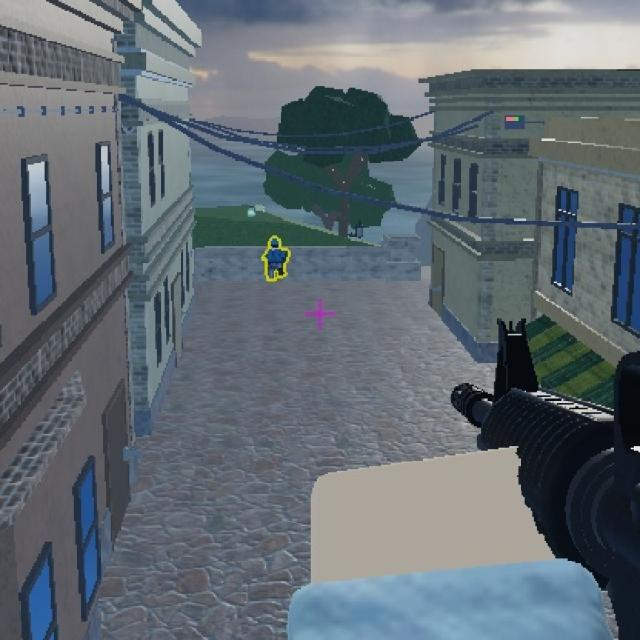player: (264, 233, 290, 280)
